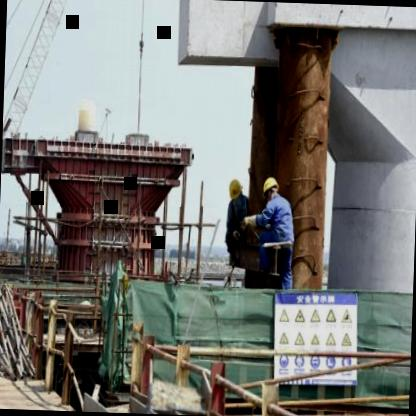helmet: (260, 172, 280, 206), (228, 177, 243, 201)
